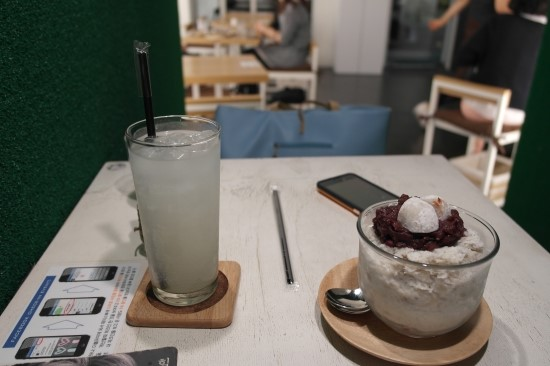glass of water: (126, 114, 229, 302)
